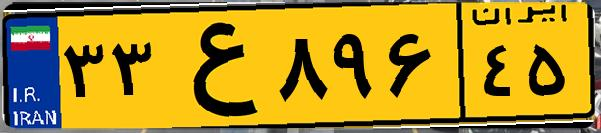3: (57, 26, 110, 100), (110, 28, 158, 98)
4: (475, 38, 525, 113)
5: (525, 38, 570, 115)
6: (385, 28, 445, 110)
8: (270, 28, 330, 110)
9: (330, 28, 385, 110)
ع: (158, 12, 270, 120)
